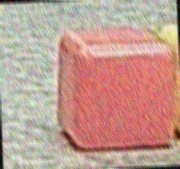orange_cube: (50, 26, 180, 154)
